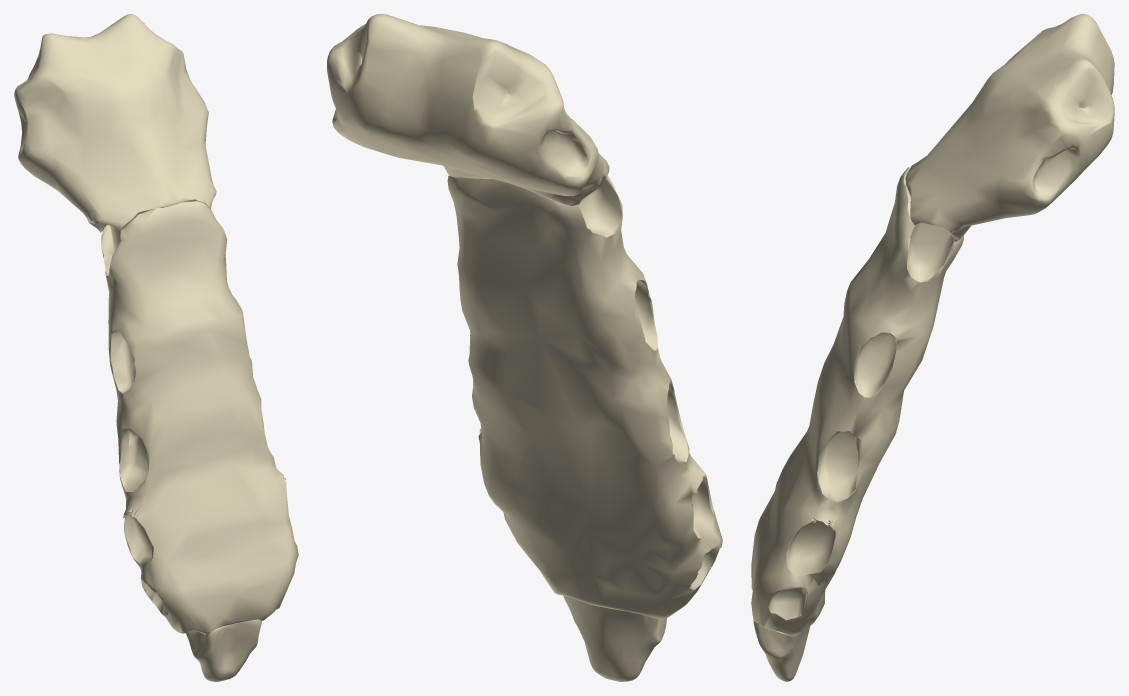
File: sternum.glb
3 views of the same model, side by side, from view 1: azimuth 30°, elevation 25°; view 2: azimuth 150°, elevation 25°; view 3: azimuth 270°, elevation 25° (orthographic). The views are drawn at different scales.
Parts seen in each view (by area): view 1: Sternum; view 2: Sternum; view 3: Sternum.
Part boxes in pixels (x1,y1,x2,y2): Sternum: [14, 14, 298, 681]; Sternum: [327, 14, 722, 681]; Sternum: [751, 14, 1114, 681].
Size of the model in its own units: 0.0549 by 0.1612 by 0.083.
